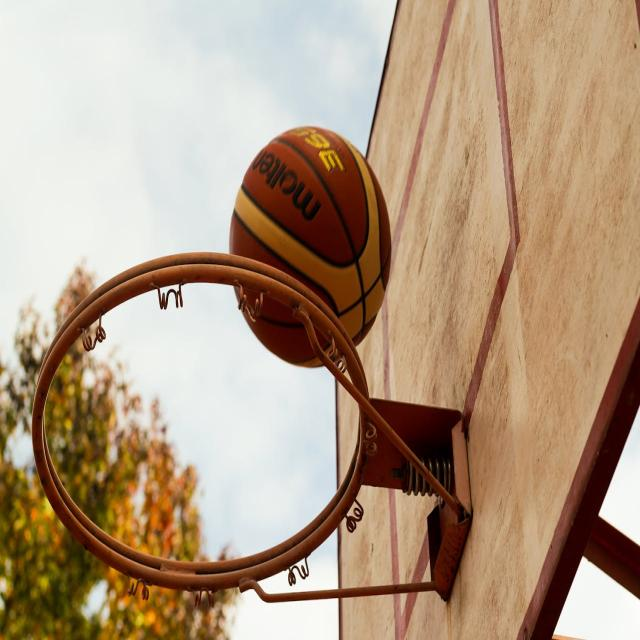rebound_hit: (226, 129, 385, 367)
